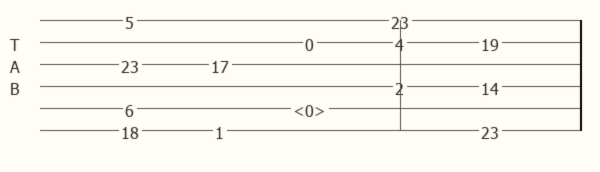0: (305, 34, 318, 50)
1: (215, 122, 228, 138)
14: (481, 78, 503, 94)
17: (211, 56, 233, 72)
18: (121, 122, 143, 138)
19: (481, 34, 503, 50)
2: (395, 78, 408, 94)
23: (121, 56, 143, 72), (391, 12, 413, 28), (481, 122, 503, 138)
4: (395, 34, 408, 50)
5: (125, 12, 138, 28)
6: (125, 100, 138, 116)
harmonic: (293, 100, 330, 116)
